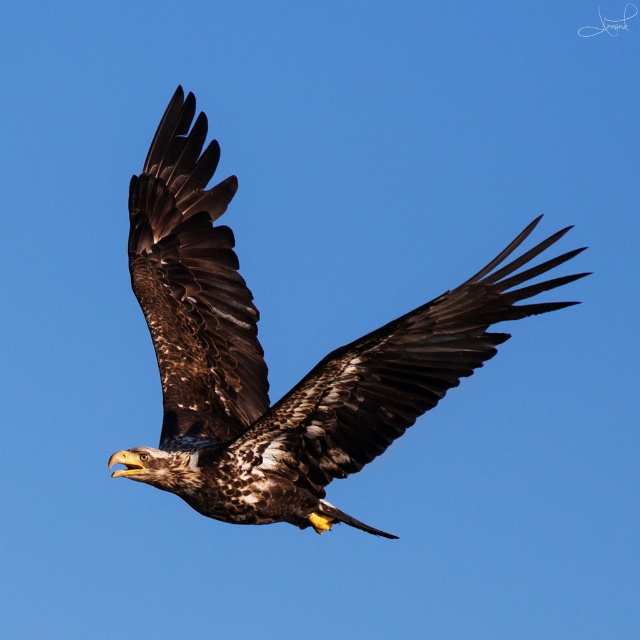Eagle: (108, 87, 591, 537)
